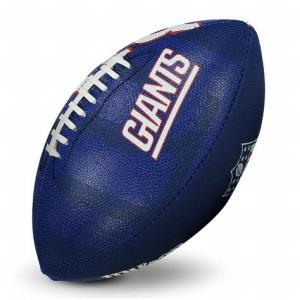Rugby: (31, 17, 267, 283)
